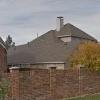Chimney: (51, 10, 68, 37)
